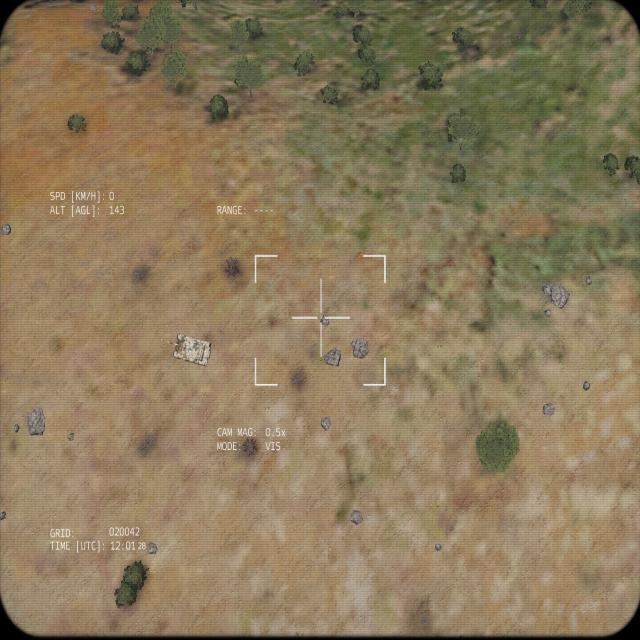tank: (159, 331, 211, 368)
